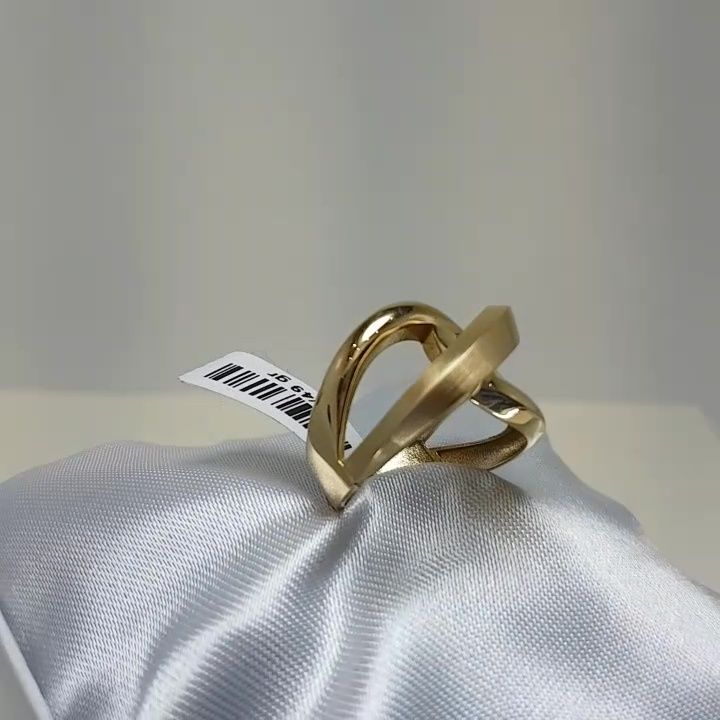Ring 3: (280, 283, 547, 522)
